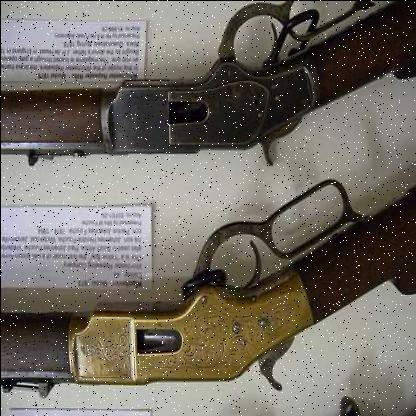rifle: (31, 186, 416, 399), (22, 1, 394, 181)
